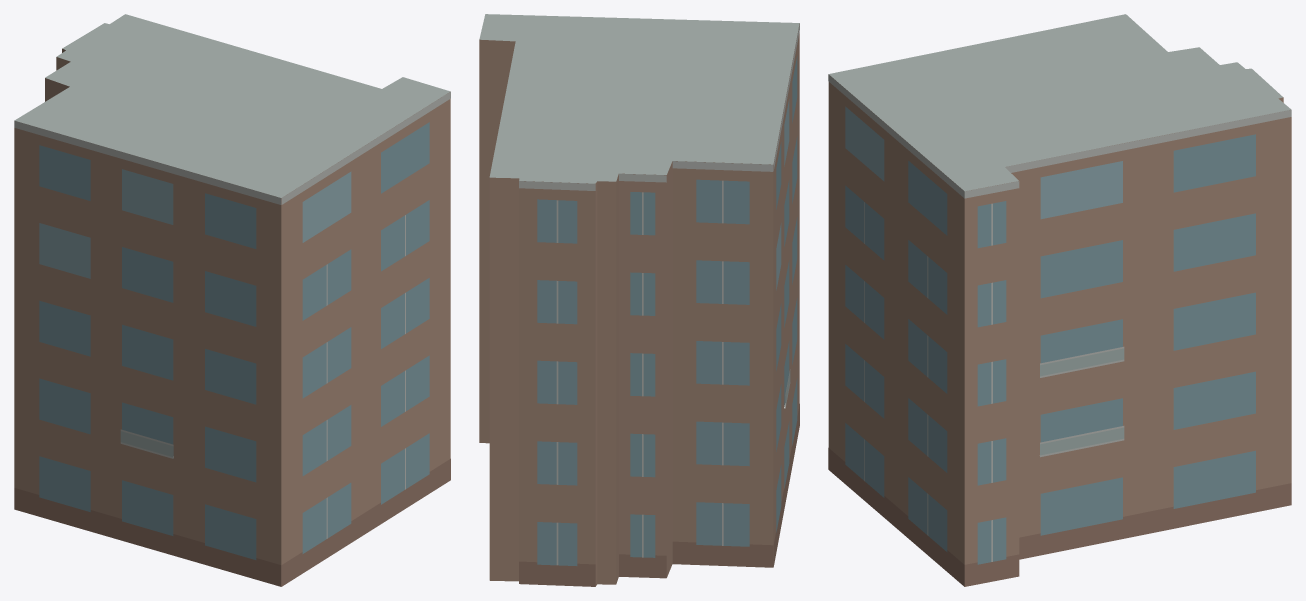
The model's file is survey-upis-32835804.glb.
The picture shows the model from 3 angles, left to right: view 1: azimuth 30°, elevation 25°; view 2: azimuth 150°, elevation 25°; view 3: azimuth 270°, elevation 25°; orthographic projection. The views are drawn at different scales.
Parts seen in each view (by area): view 1: survey-upis-32835804.tmp; view 2: survey-upis-32835804.tmp; view 3: survey-upis-32835804.tmp.
Part boxes in pixels (left/top/right/bottom): survey-upis-32835804.tmp: left=14, top=14, right=450, bottom=586; survey-upis-32835804.tmp: left=479, top=14, right=799, bottom=586; survey-upis-32835804.tmp: left=828, top=14, right=1291, bottom=586.
Size of the model in its own units: 12.8 by 13.3 by 14.12.
